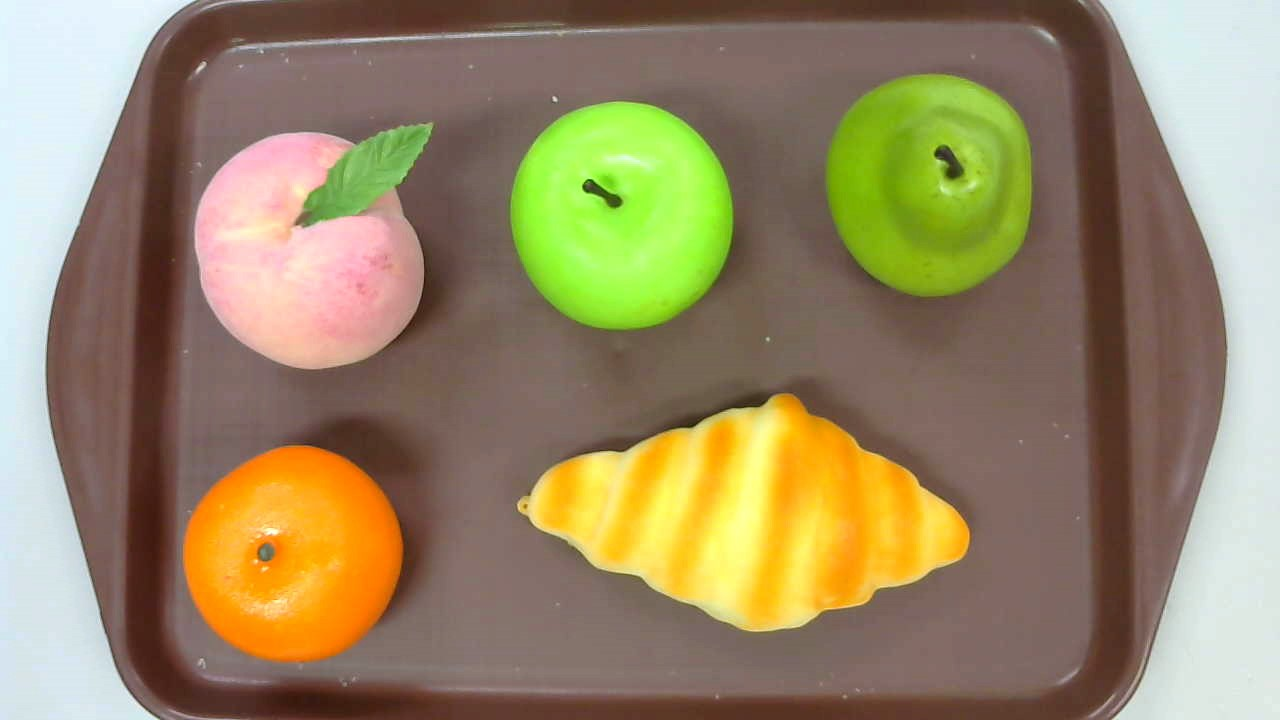croissant: (517, 392, 970, 631)
green apple: (510, 100, 732, 331)
green pear: (825, 72, 1032, 297)
orange: (183, 444, 403, 661)
peaches: (193, 122, 433, 370)
